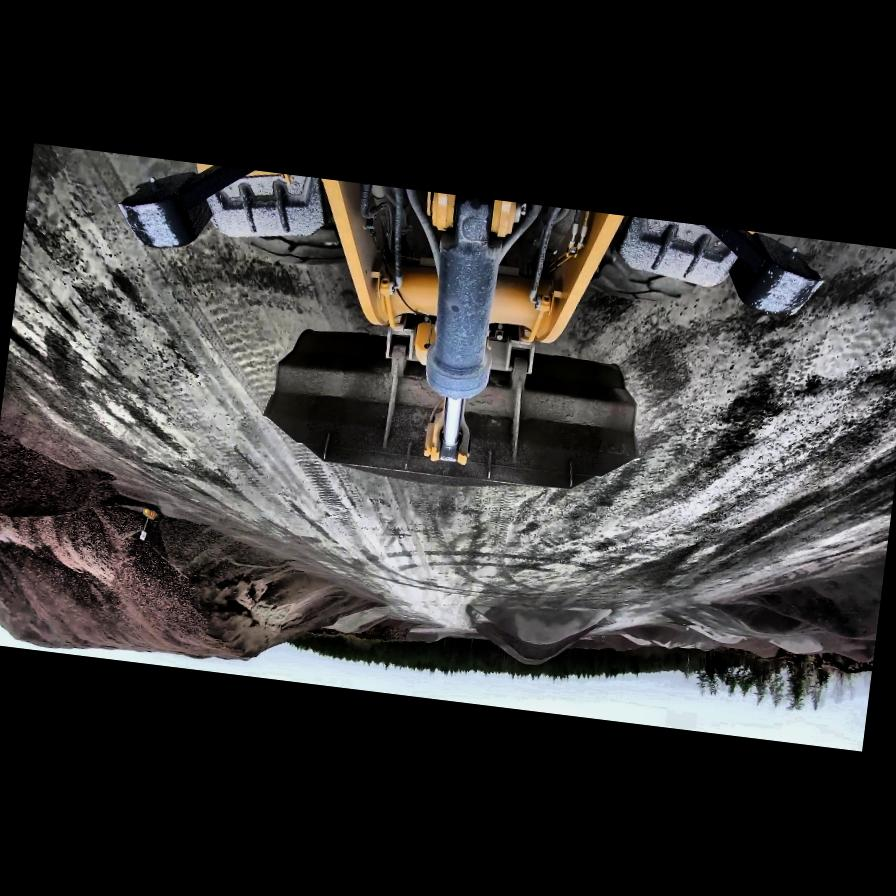anchor: (421, 397, 475, 467)
pile of gravel: (156, 537, 372, 680), (680, 546, 884, 674), (0, 519, 168, 659), (0, 410, 172, 538), (464, 592, 610, 674), (265, 580, 384, 652), (700, 596, 819, 644), (607, 616, 726, 658), (800, 604, 879, 644), (329, 605, 393, 640), (812, 632, 876, 666), (351, 618, 411, 646), (764, 632, 825, 659), (683, 624, 747, 648), (730, 637, 786, 662), (404, 629, 446, 648), (648, 636, 690, 653), (618, 634, 654, 650), (691, 642, 720, 654)
